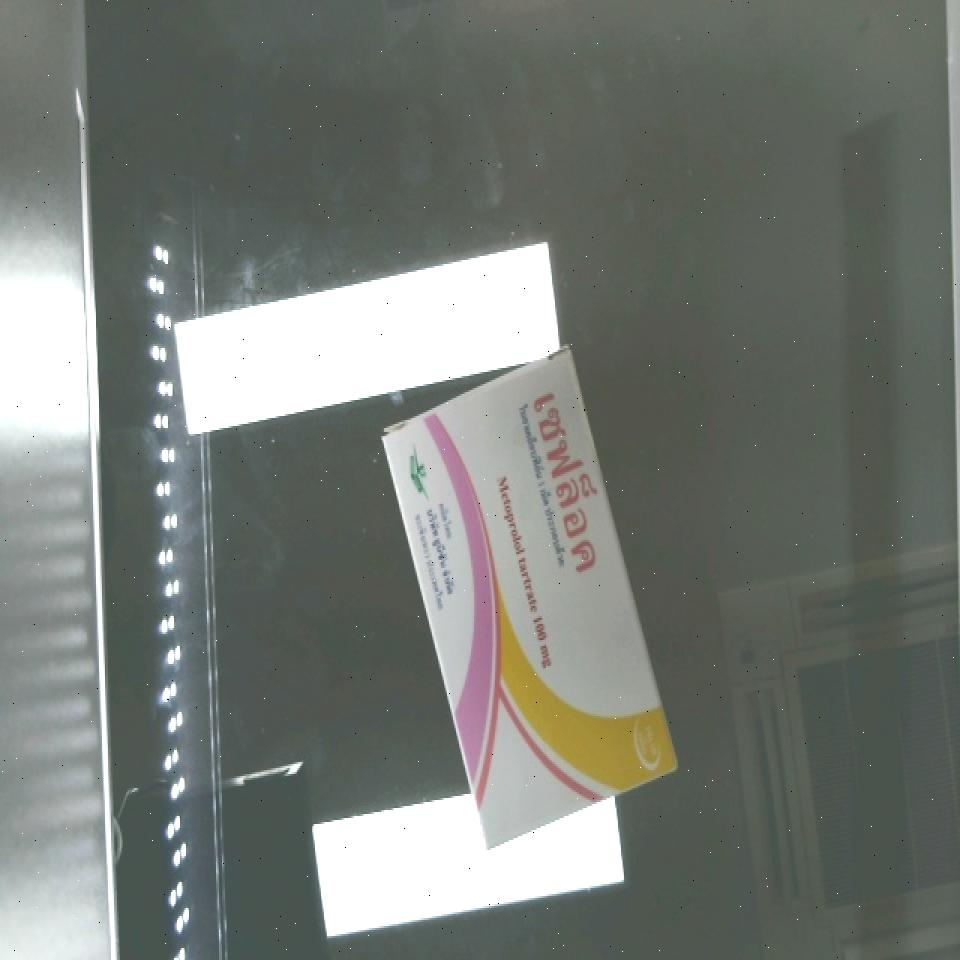medicine_box: (369, 340, 684, 852)
medicine_label_obb: (499, 345, 626, 591)
